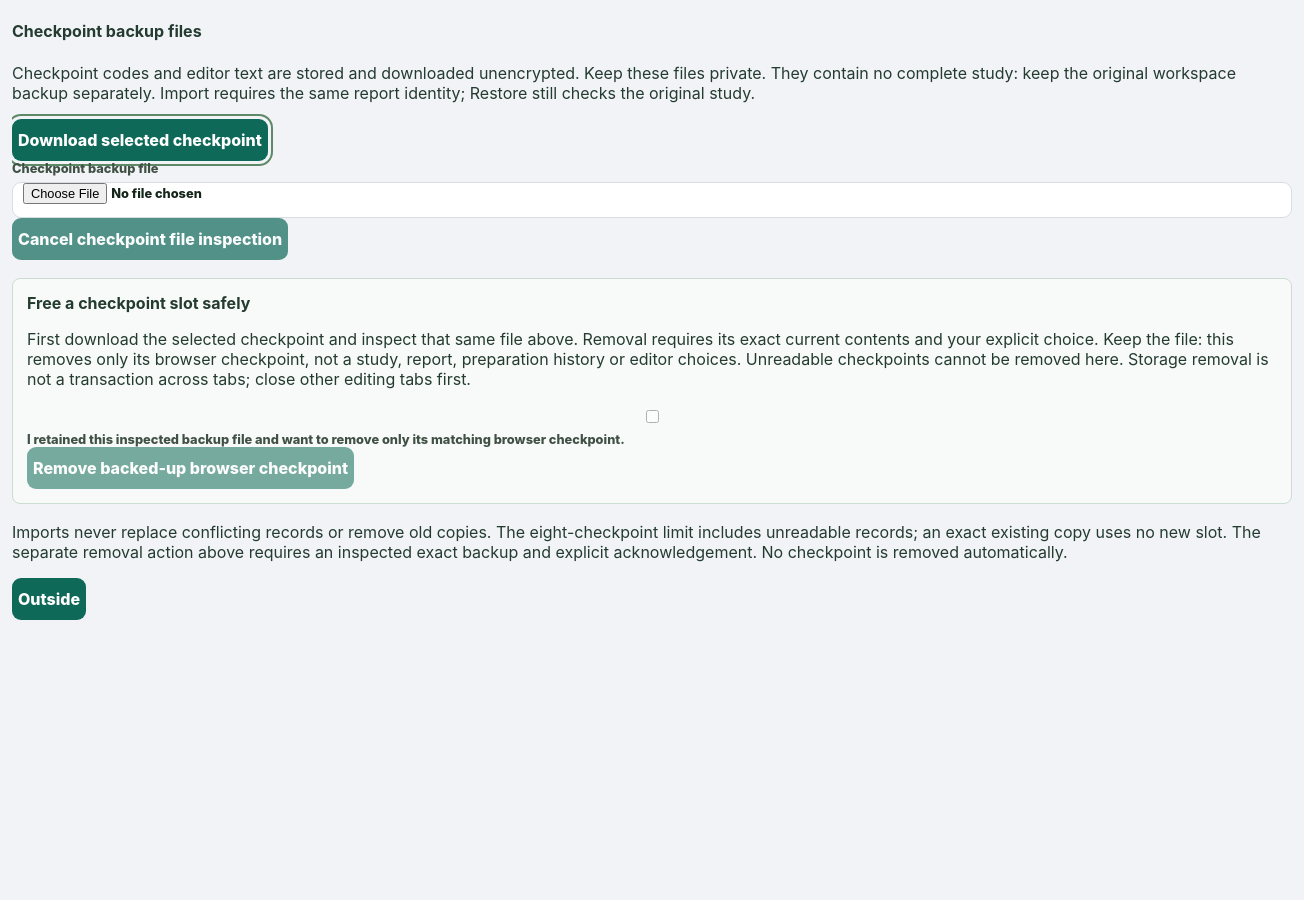
Scenario: keeps the stored checkpoint when download creation is unavailable
The width and height of the screenshot is (1304, 900).
Click the button "Download selected checkpoint".
click(140, 140)  # box [12,118,268,160]
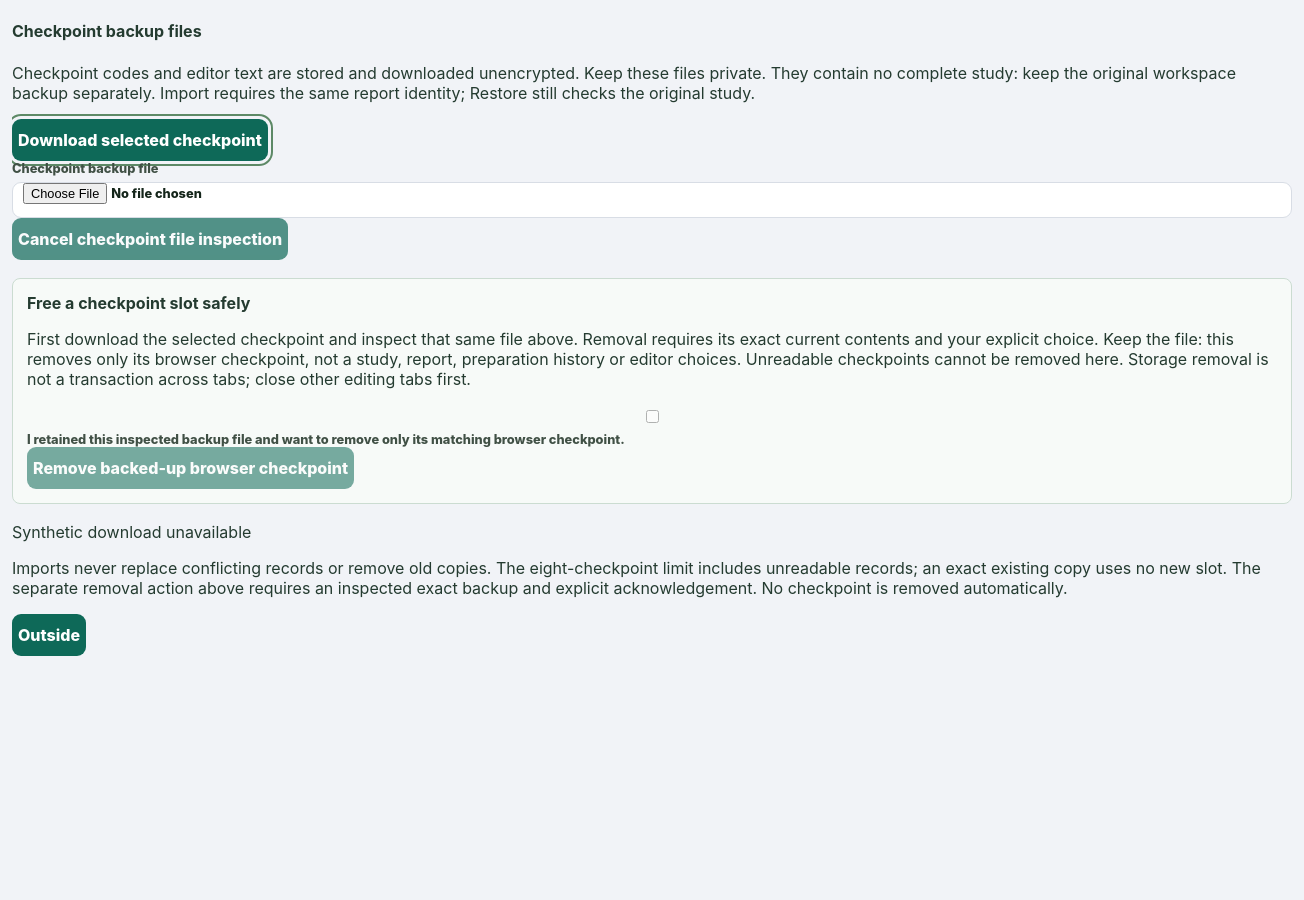
Now the text "Synthetic download unavailable" is shown, box [12,522,251,542]
